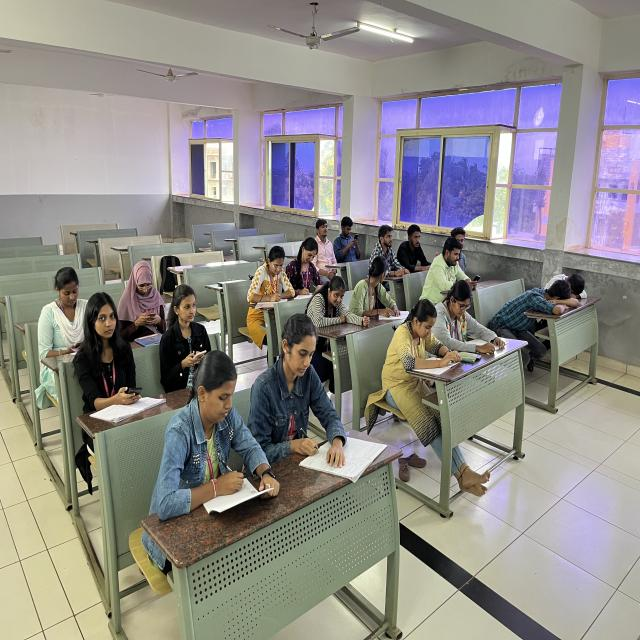Reading: (378, 298, 458, 382), (436, 279, 504, 356)
Sleeping: (522, 277, 581, 312)
Using Phone: (67, 290, 154, 421), (152, 280, 231, 370), (116, 256, 172, 332), (423, 236, 486, 286), (333, 214, 368, 266)
Writing: (154, 347, 275, 518), (265, 306, 365, 479), (243, 238, 296, 310), (292, 232, 329, 299)
